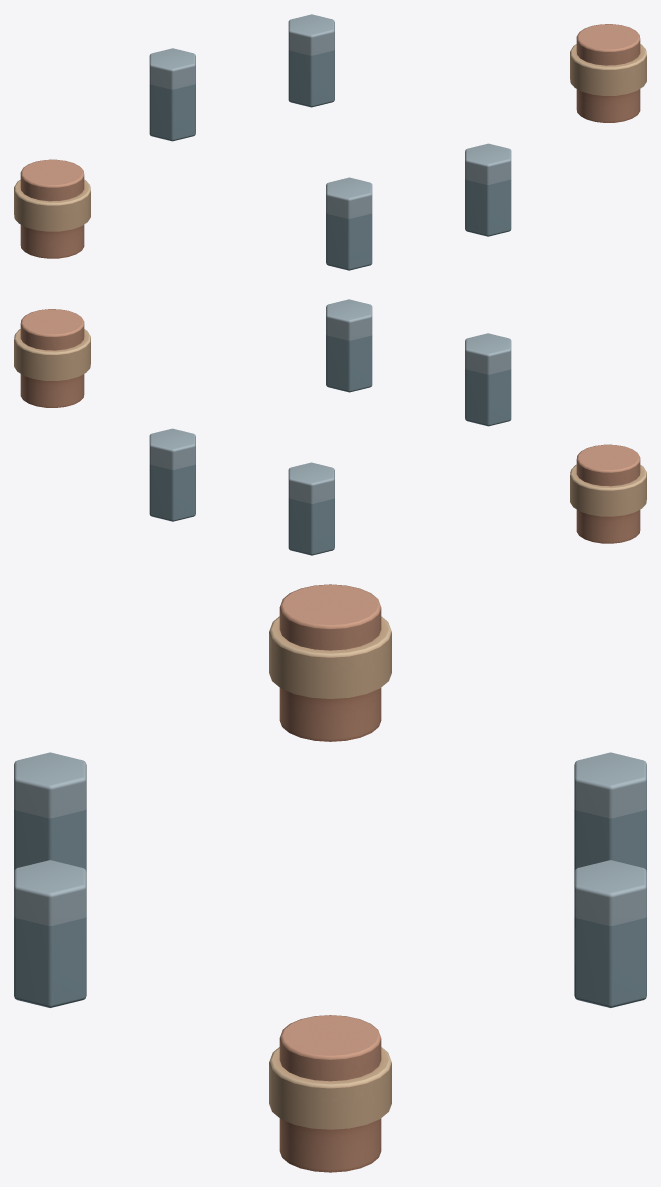
Rendered from Props.fbx.
3 renders of one model, top to bottom at view 1: azimuth 30°, elevation 25°; view 2: azimuth 150°, elevation 25°; view 3: azimuth 270°, elevation 25°, orthographic. The views are drawn at different scales.
Parts seen in each view (by area): view 1: 六面体 (×4), Cylinder (1), Cylinder; view 2: 六面体 (×4), Cylinder (1), Cylinder; view 3: 六面体 (×4), Cylinder, Cylinder (1).
Boxes of the visible parts, bbox=[...] form: 六面体 (×4): bbox=[149, 14, 511, 270]; Cylinder (1): bbox=[14, 159, 90, 258]; Cylinder: bbox=[570, 24, 646, 122]; 六面体 (×4): bbox=[149, 299, 511, 555]; Cylinder (1): bbox=[570, 444, 646, 543]; Cylinder: bbox=[14, 309, 90, 407]; 六面体 (×4): bbox=[14, 752, 646, 1007]; Cylinder: bbox=[269, 1015, 391, 1172]; Cylinder (1): bbox=[269, 584, 391, 741].
Bounding box in the file's own units: 44.82 × 5.1 × 24.85.
